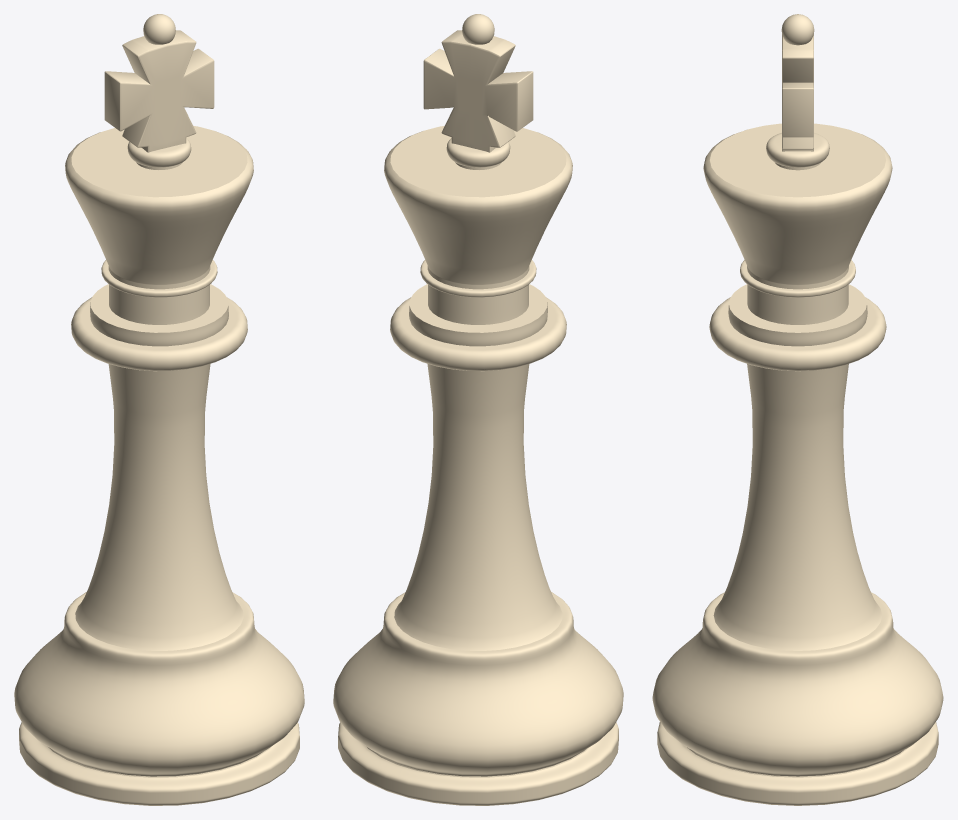
Rendered from King.fbx.
The picture shows the model from 3 angles, left to right: view 1: azimuth 30°, elevation 25°; view 2: azimuth 150°, elevation 25°; view 3: azimuth 270°, elevation 25°; orthographic projection.
Parts seen in each view (by area): view 1: King; view 2: King; view 3: King.
Boxes of the visible parts, bbox=[...] form: King: bbox=[14, 14, 304, 805]; King: bbox=[333, 14, 623, 805]; King: bbox=[652, 14, 943, 805].
Size of the model in its own units: 62.39 by 174 by 62.39.
